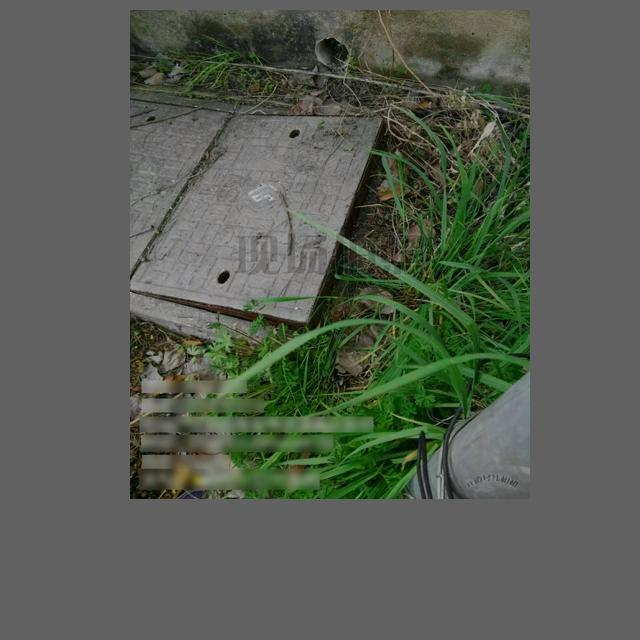uncovered: (130, 90, 391, 344)
